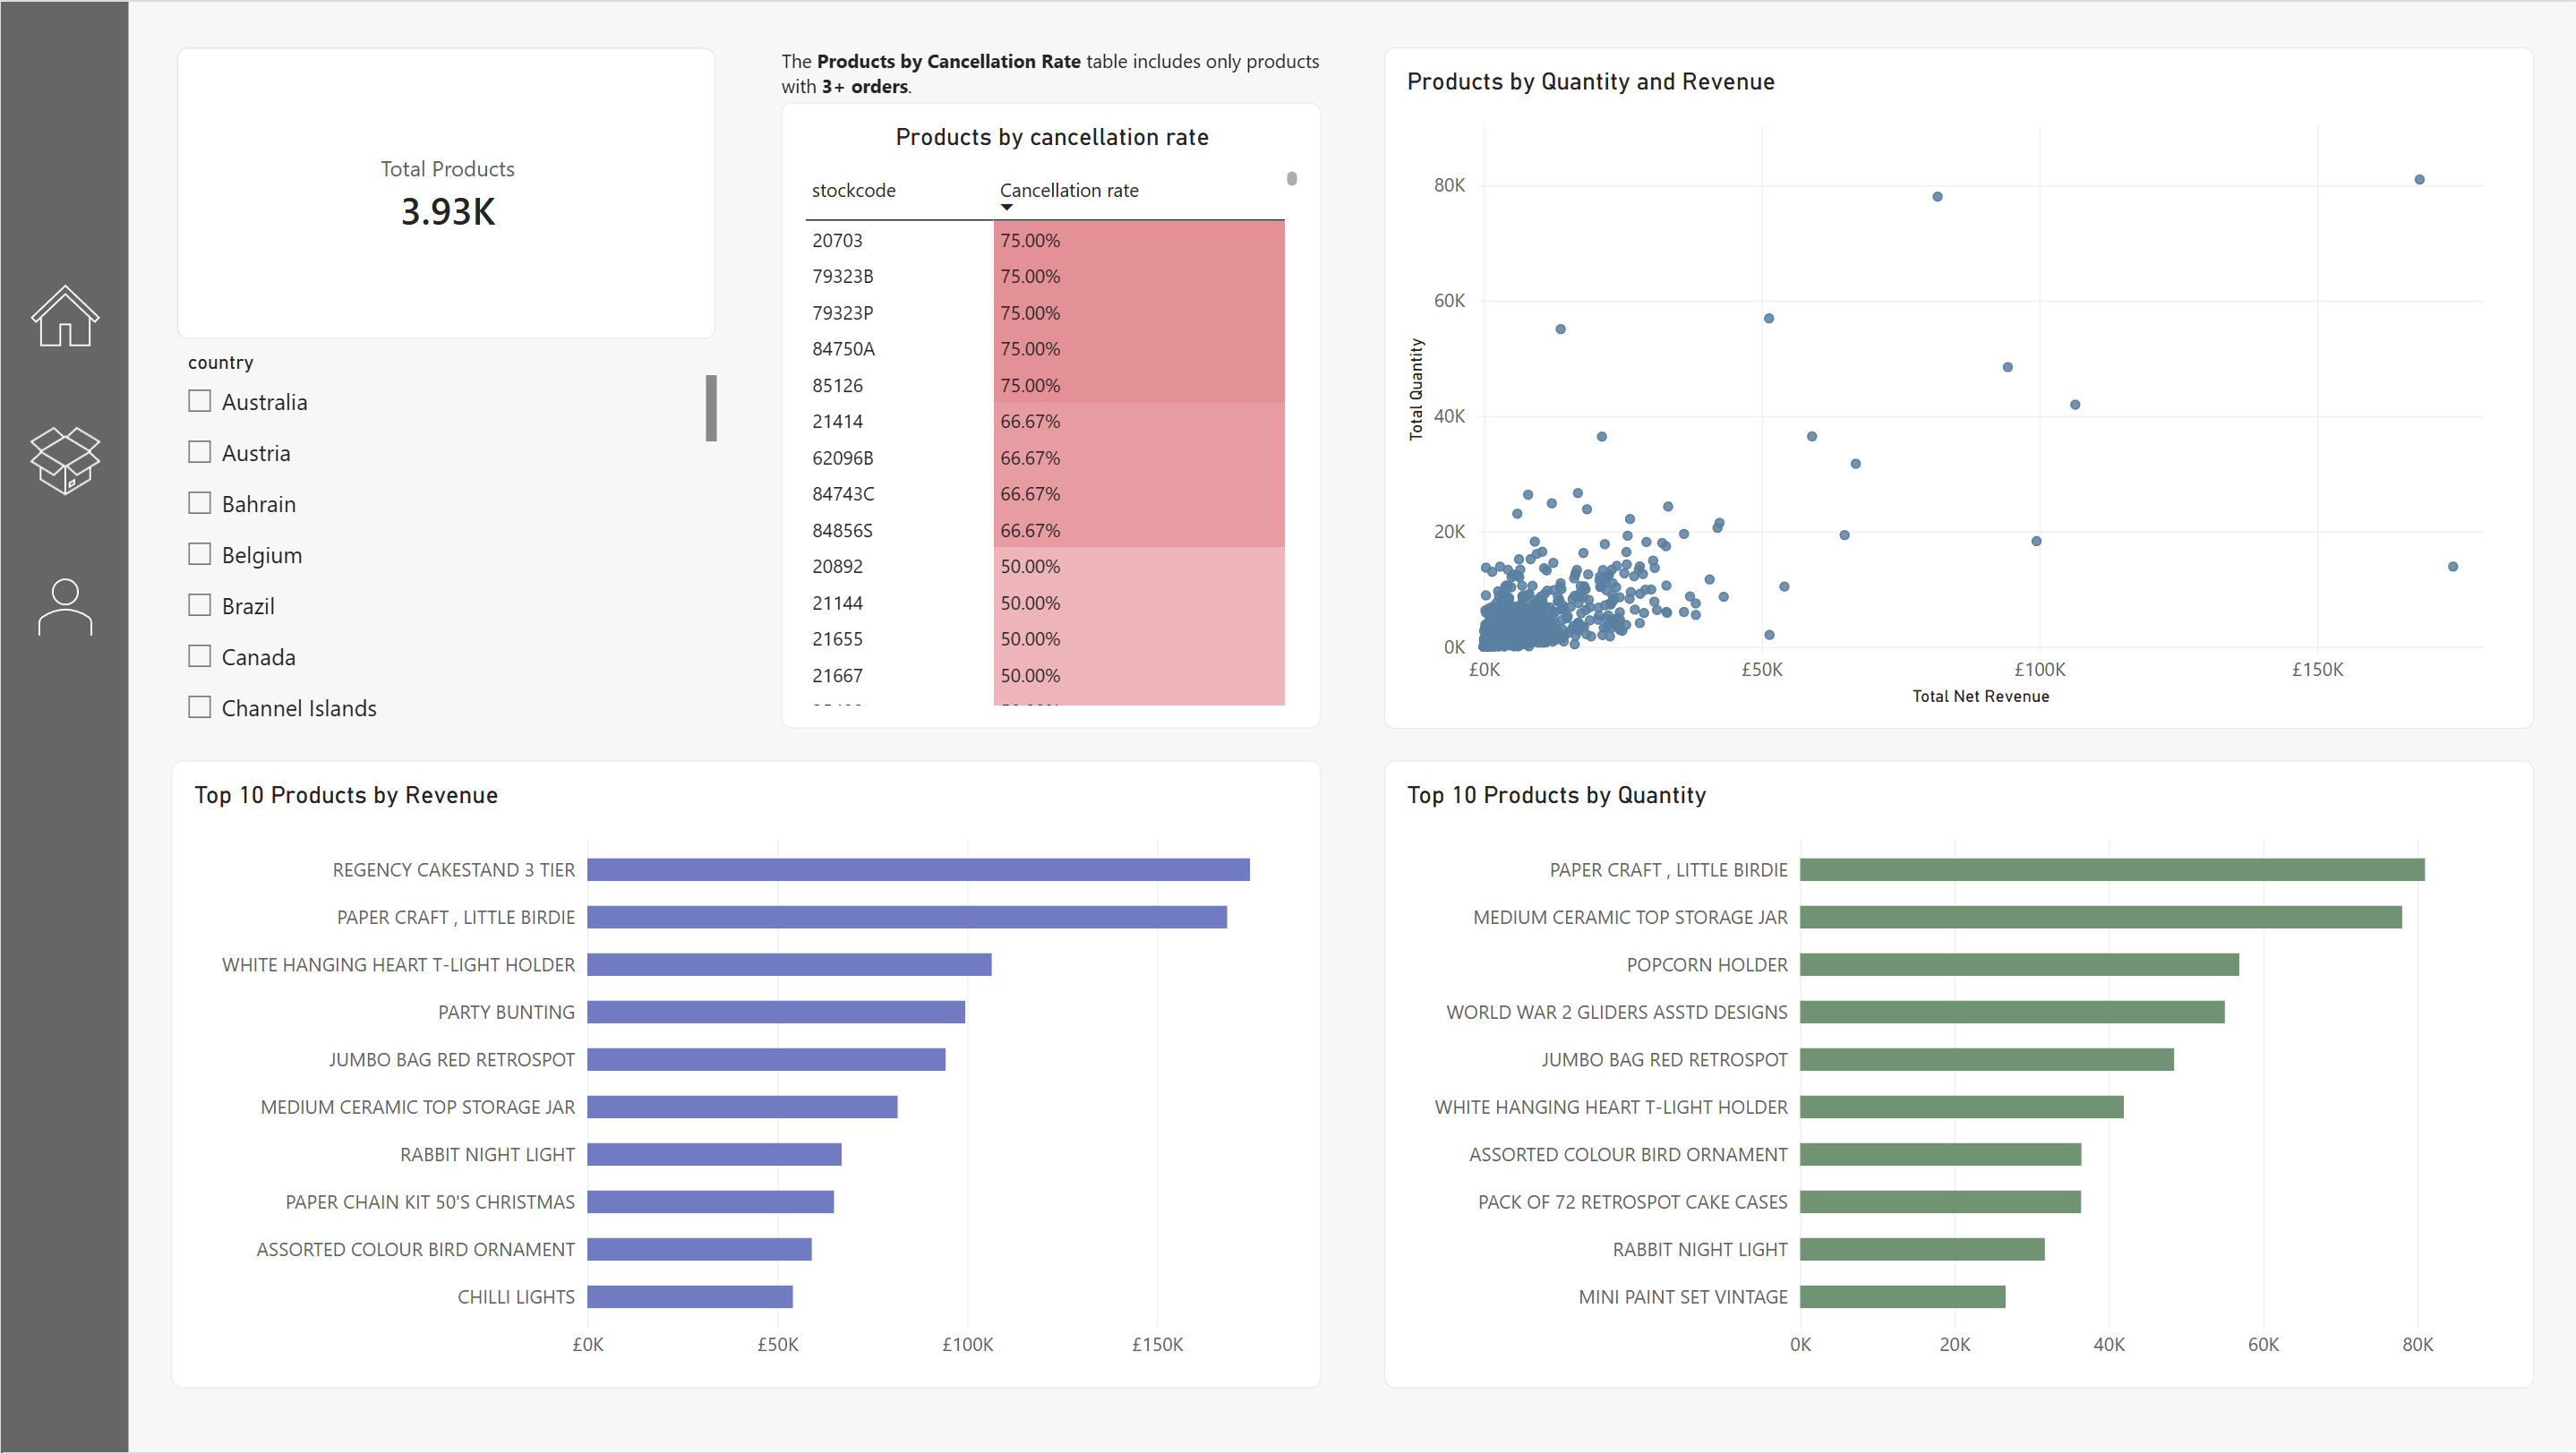

This screenshot's page, from the dashboard's own definition file:
{"tool":"powerbi","page":{"name":"Product Performance","canvas":[1920,1080],"ordinal":1},"visuals":[{"type":"shape","box":[0,0,94.7,1080],"z":0},{"type":"clusteredBarChart","title":"Top 10 Products by Revenue","fields":{"Category":["products.description"],"Y":["Measures Table.Total Net Revenue"]},"box":[127.2,565,855.6,466.9],"z":1000},{"type":"clusteredBarChart","title":"Top 10 Products by Quantity","fields":{"Category":["products.description"],"Y":["Measures Table.Total Quantity"]},"box":[1030.3,565.4,855.6,466.9],"z":2000},{"type":"cardVisual","fields":{"Data":["Measures Table.Total Products"]},"box":[130.5,34.1,401.7,216.9],"z":3000},{"type":"scatterChart","title":"Products by Quantity and Revenue","fields":{"Category":["products.stockcode"],"X":["Measures Table.Total Net Revenue"],"Y":["Measures Table.Total Quantity"]},"box":[1030.5,34.1,855.4,506.4],"z":4000},{"type":"tableEx","title":"Products by cancellation rate","fields":{"Values":["products.stockcode","Measures Table.Cancellation rate"]},"box":[581.3,74.9,401.8,465.7],"z":5000},{"type":"slicer","fields":{"Values":["customers.country"]},"box":[131,259.8,401.8,280.7],"z":6000},{"type":"textbox","box":[581.3,34.1,401.8,40.7],"z":7000},{"type":"actionButton","box":[0,287,95,109],"z":8000},{"type":"actionButton","box":[0,396,95,109],"z":9000},{"type":"actionButton","box":[0,178,95,109],"z":9002}]}

Visuals, with their boxes on the page's 1920x1080 design canvas (x1, y1, x2, y2). These are canvas units, not pixel positions in the 2576x1454 screenshot, which may show the page scaled, cropped or inside an application window:
shape: detection(0, 0, 95, 1080)
"Top 10 Products by Revenue" clusteredBarChart: detection(127, 565, 983, 1032)
"Top 10 Products by Quantity" clusteredBarChart: detection(1030, 565, 1886, 1032)
cardVisual - Measures Table.Total Products: detection(130, 34, 532, 251)
"Products by Quantity and Revenue" scatterChart: detection(1030, 34, 1886, 540)
"Products by cancellation rate" tableEx: detection(581, 75, 983, 541)
slicer - customers.country: detection(131, 260, 533, 540)
textbox: detection(581, 34, 983, 75)
actionButton: detection(0, 287, 95, 396)
actionButton: detection(0, 396, 95, 505)
actionButton: detection(0, 178, 95, 287)
